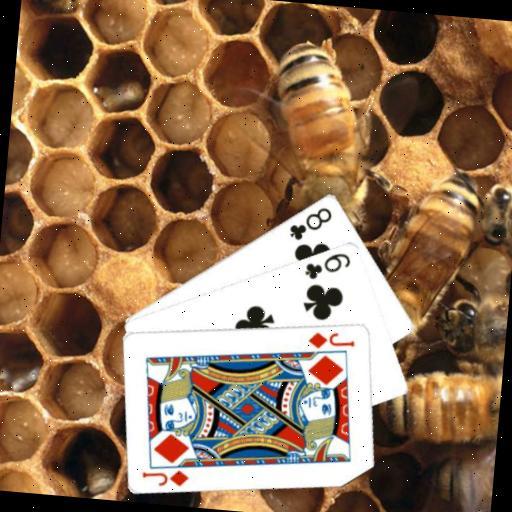6C: (301, 246, 354, 284)
8C: (286, 201, 335, 245)
JD: (139, 463, 192, 490), (305, 327, 358, 353)
